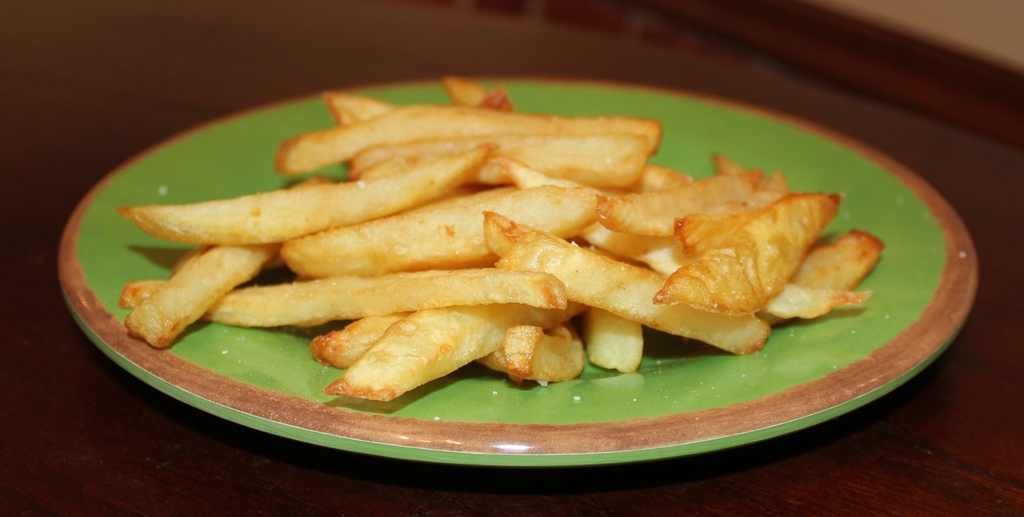French fries: (130, 80, 869, 407)
